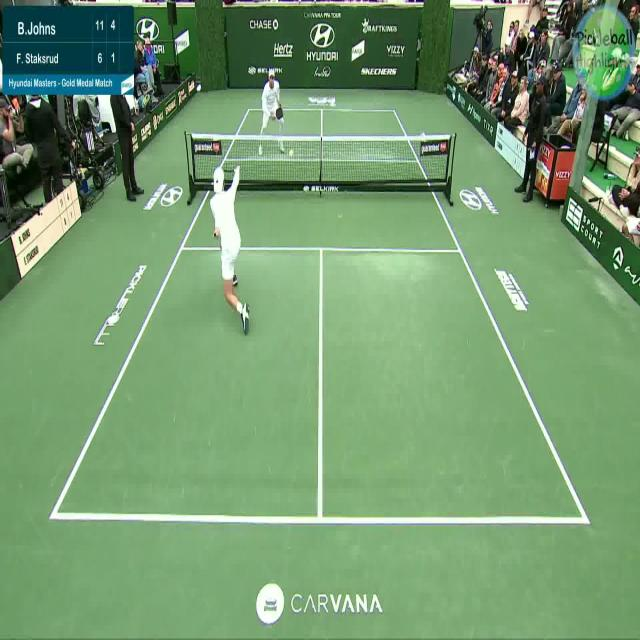ball: (286, 144, 297, 162)
